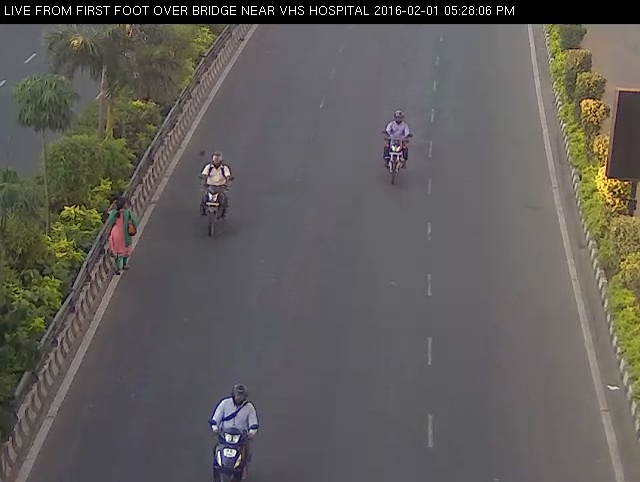Person: (204, 378, 264, 481), (187, 146, 244, 245), (371, 101, 424, 191), (97, 193, 144, 279)
